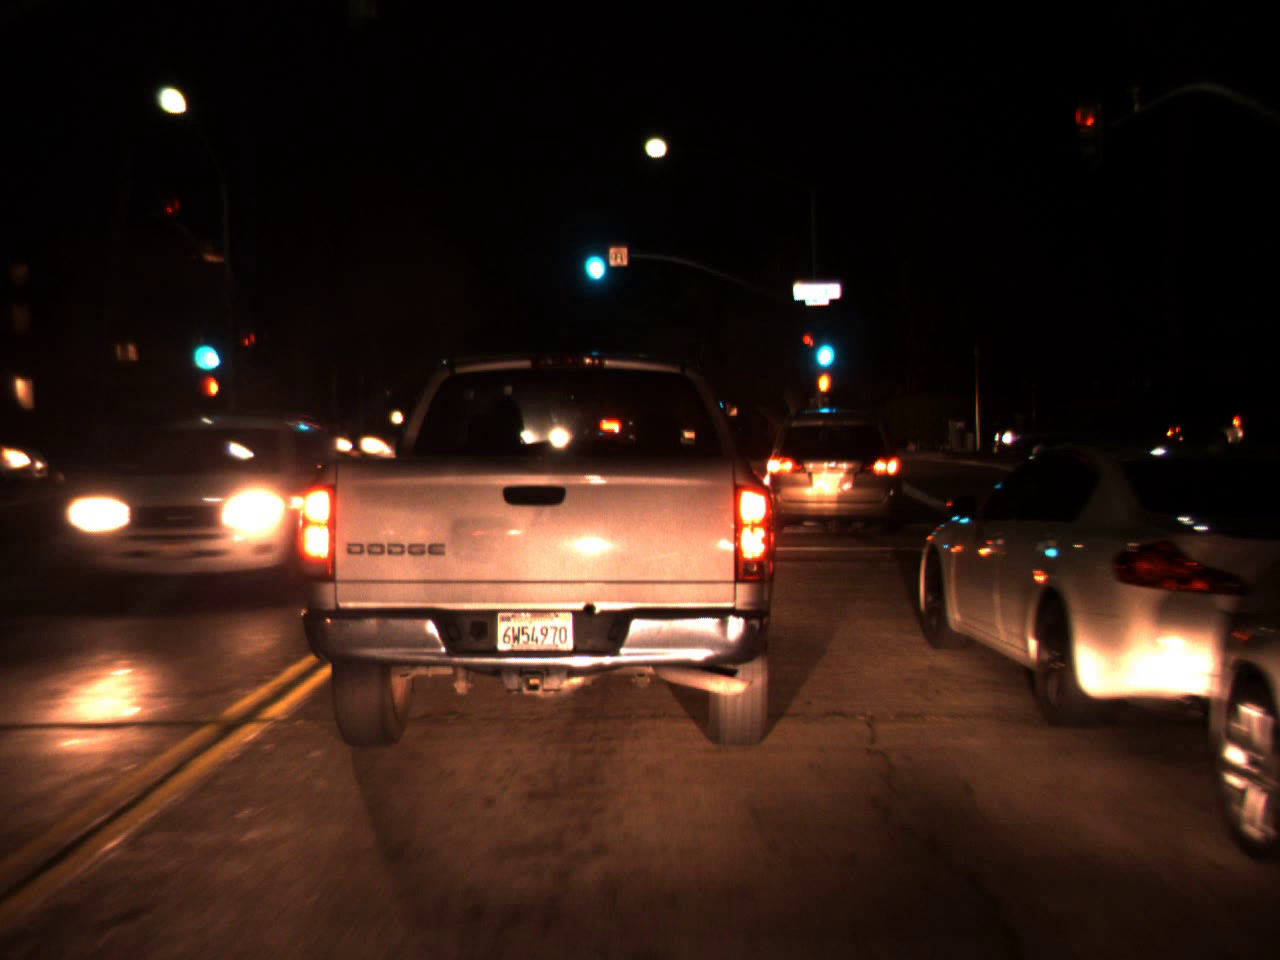go: (186, 314, 222, 380), (577, 224, 609, 290), (808, 316, 838, 376)
